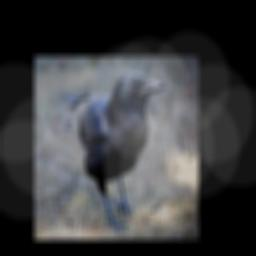Crow: (60, 71, 165, 231)
